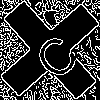C: (25, 25, 83, 83)
